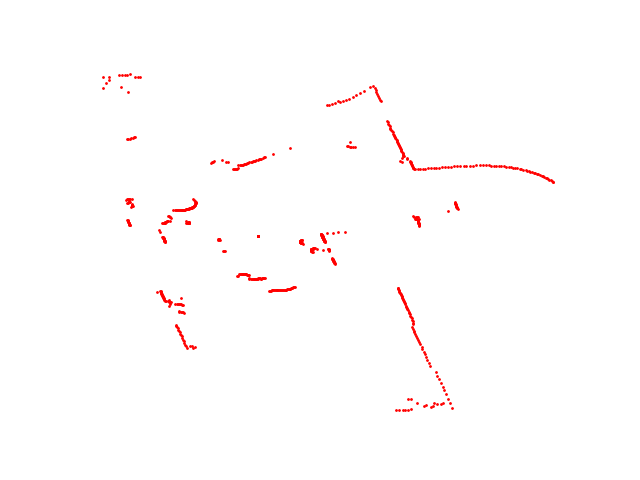person: (297, 236, 320, 256)
